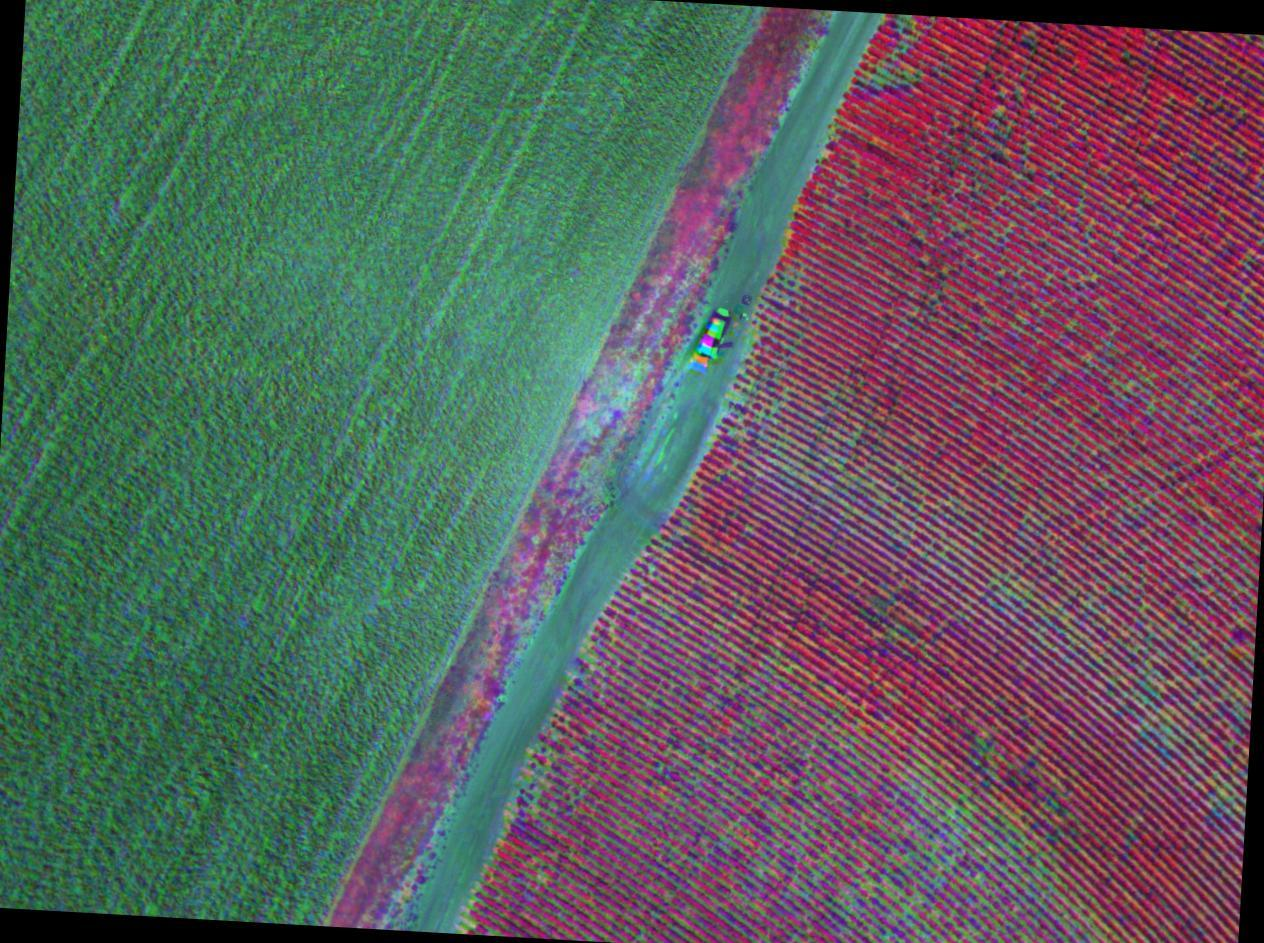dc: (993, 580, 997, 584), (807, 795, 811, 799), (761, 864, 765, 868), (538, 870, 542, 874), (470, 919, 474, 923), (856, 726, 859, 731), (934, 846, 937, 850), (696, 864, 700, 867), (864, 886, 868, 889), (961, 795, 964, 798)
